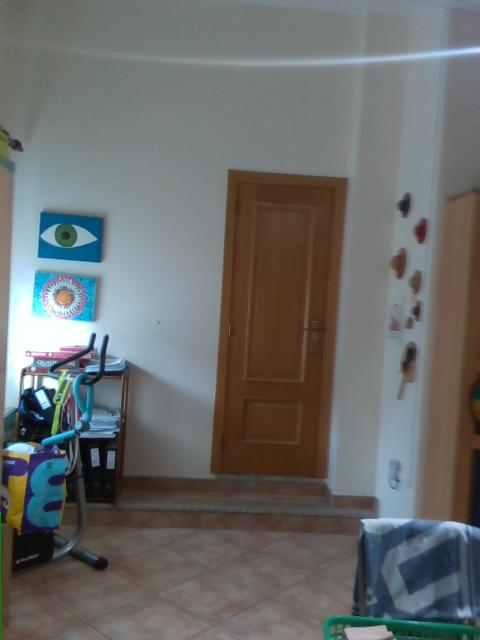door: (223, 181, 336, 477)
